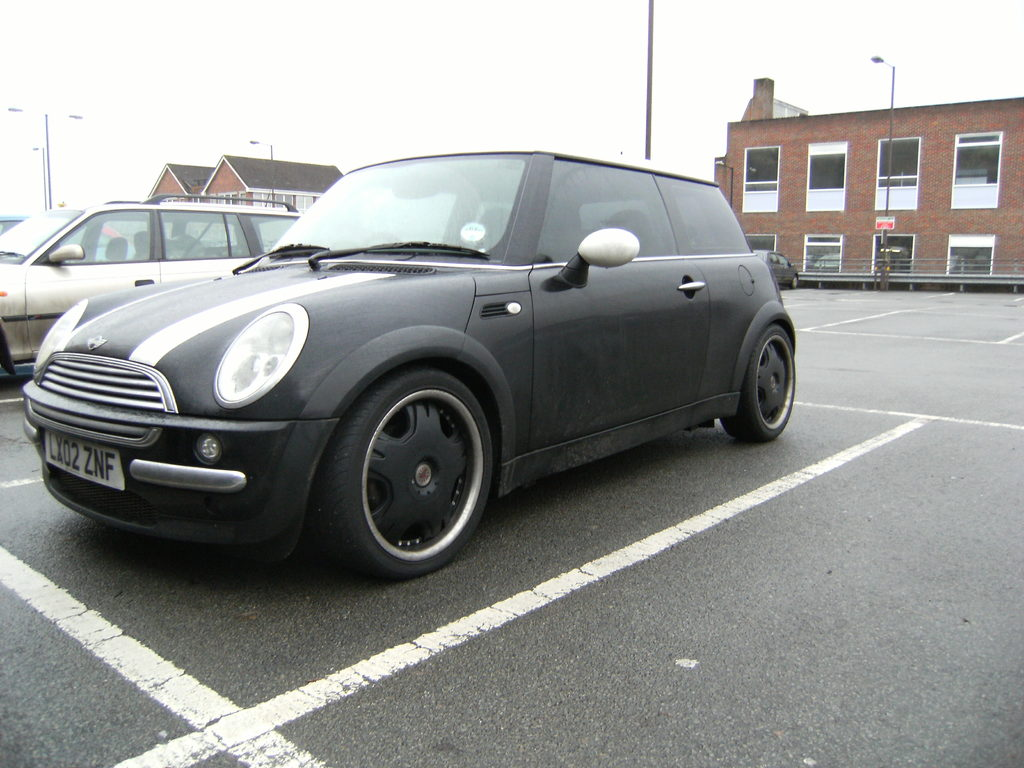Car: (10, 145, 805, 568), (0, 185, 302, 381)
